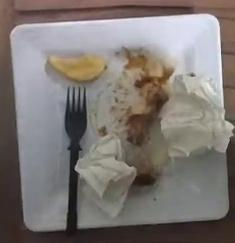fries: (48, 55, 106, 82)
